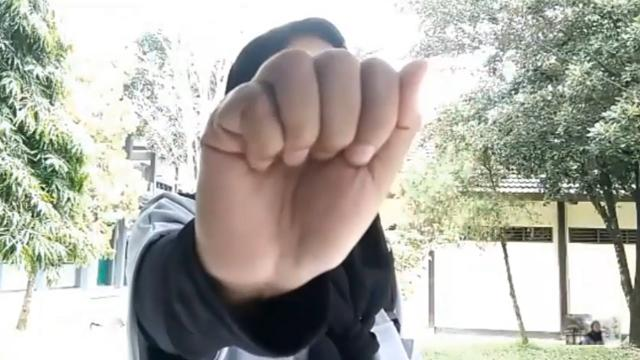A: (190, 56, 432, 288)
